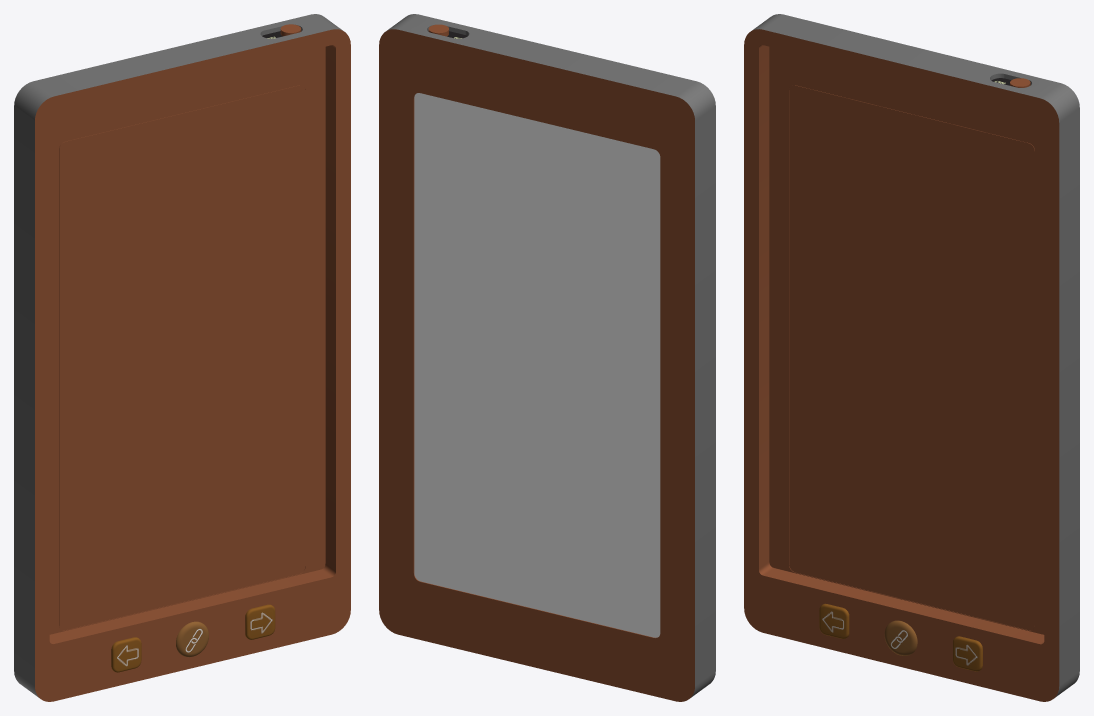
File: mobile.glb
The picture shows the model from 3 angles, left to right: view 1: azimuth 30°, elevation 25°; view 2: azimuth 150°, elevation 25°; view 3: azimuth 330°, elevation 25°; orthographic projection.
Parts seen in each view (by area): view 1: phone, button-m-right, button-m-left, button-m-center; view 2: backscreen, phone; view 3: phone, button-m-center, button-m-left, button-m-right.
Part boxes in pixels (x1,y1,x2,y2): phone: (14,14,350,701); button-m-right: (245,604,275,639); button-m-left: (111,637,141,672); button-m-center: (176,621,208,657); backscreen: (414,93,660,637); phone: (379,14,715,701); phone: (744,14,1079,701); button-m-center: (884,620,917,655); button-m-left: (819,603,849,638); button-m-right: (953,636,982,671).
Size of what is drawn, in the model's own units: 1 by 1.84 by 0.1239.
Materials: 8 (3 with a texture image).
